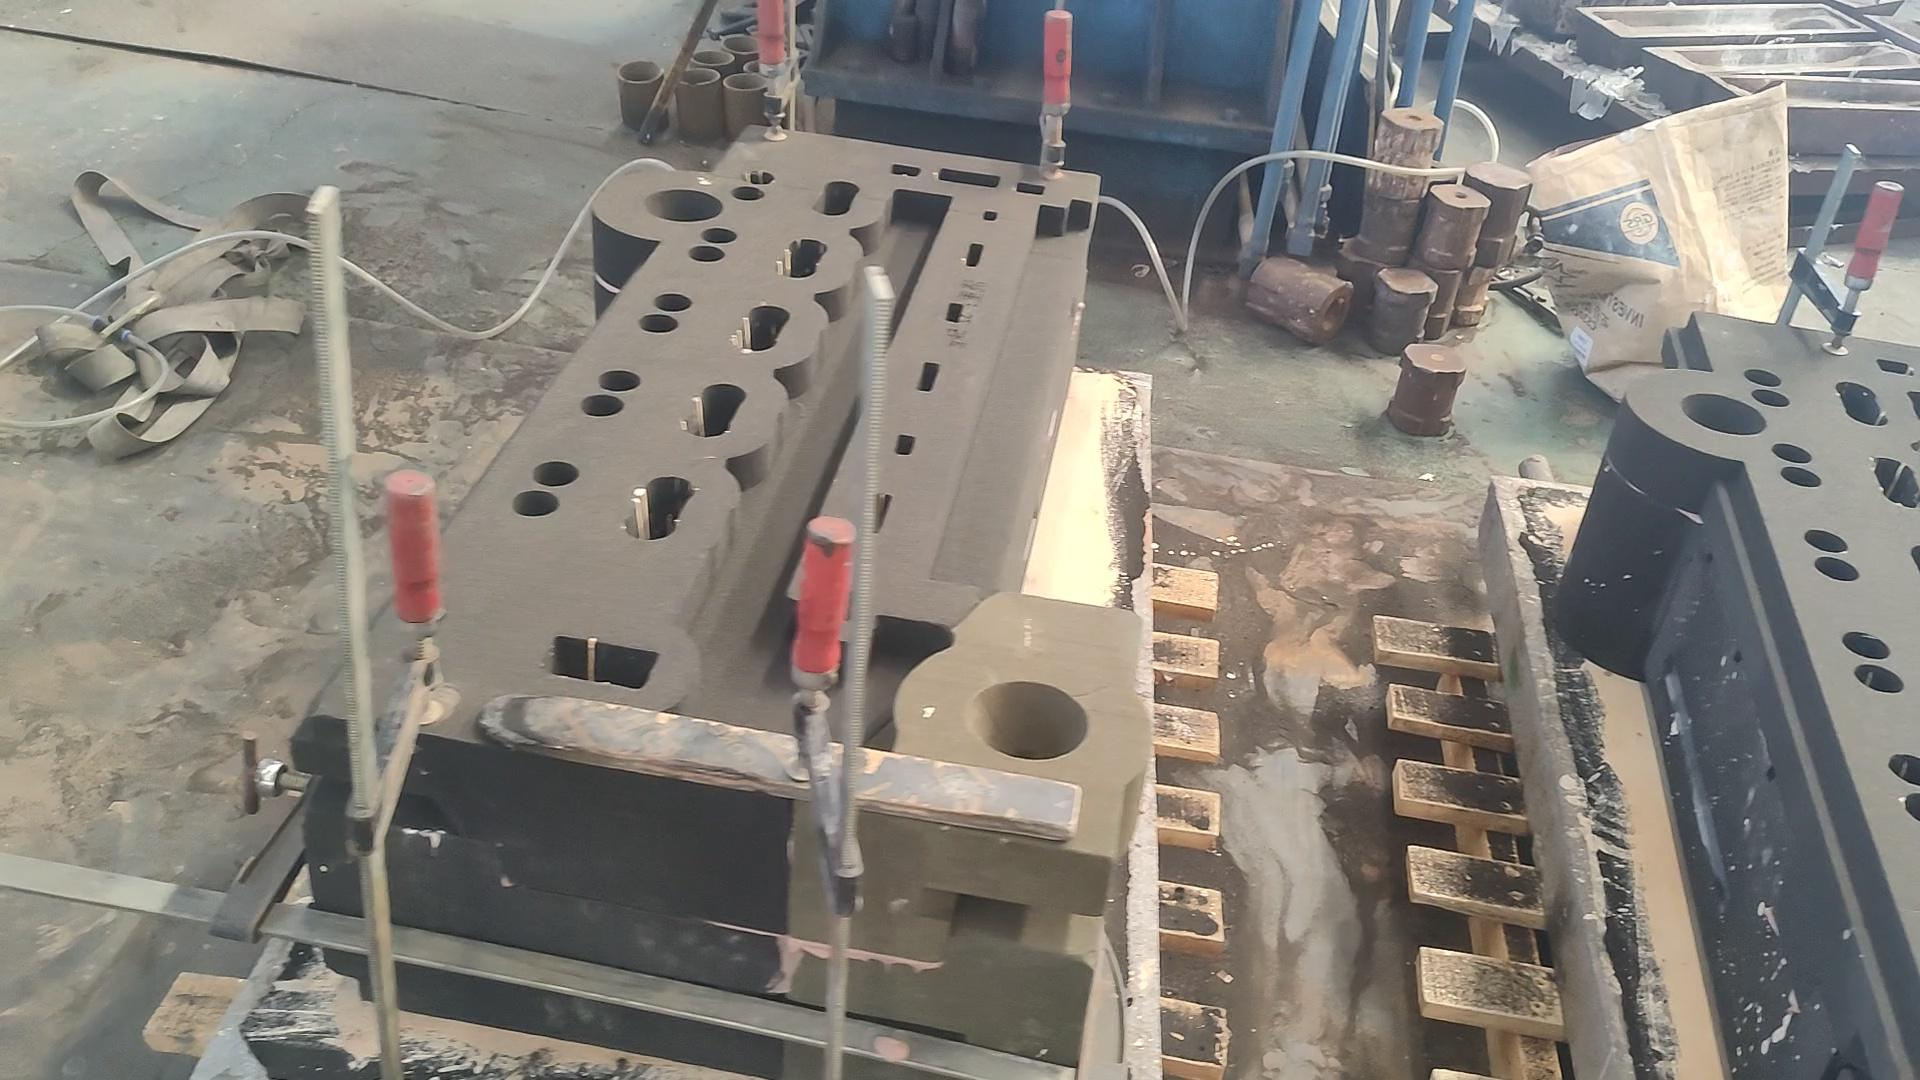pouring hole: (969, 682, 1088, 758), (1684, 392, 1767, 436), (644, 189, 723, 220), (618, 61, 662, 82), (723, 32, 764, 54), (670, 69, 720, 86), (687, 49, 735, 66), (724, 73, 769, 90), (746, 61, 781, 75)
